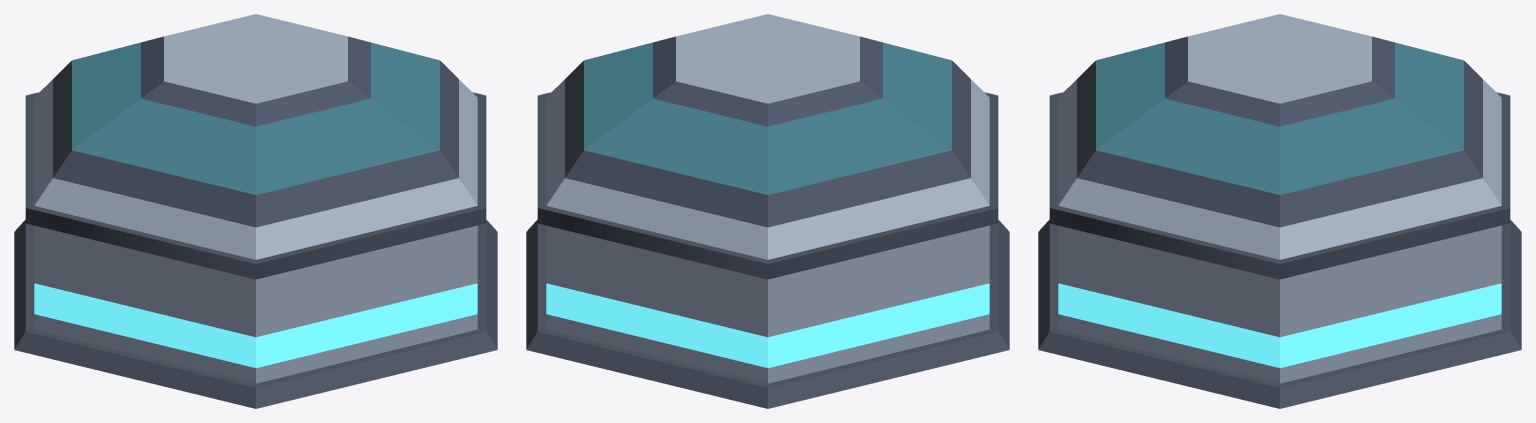
The model's file is hangar_roundA.glb.
3 views of the same model, side by side, from view 1: azimuth 30°, elevation 25°; view 2: azimuth 150°, elevation 25°; view 3: azimuth 270°, elevation 25° (orthographic).
Visible parts, largest first — view 1: hangar_roundA; view 2: hangar_roundA; view 3: hangar_roundA.
Part boxes in pixels (box(x1,y1,x2,y2)): hangar_roundA: box(14, 14, 497, 408); hangar_roundA: box(526, 14, 1009, 408); hangar_roundA: box(1038, 14, 1521, 408).
Bounding box in the file's own units: 3.27 × 1.5 × 2.83.
